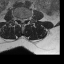CCS_stenosis: (21, 16, 23, 24)
LFS_normal: (25, 16, 27, 22)
LLS_normal: (23, 16, 25, 23)
RFS_normal: (17, 15, 19, 22)
RLS_normal: (19, 16, 21, 23)
